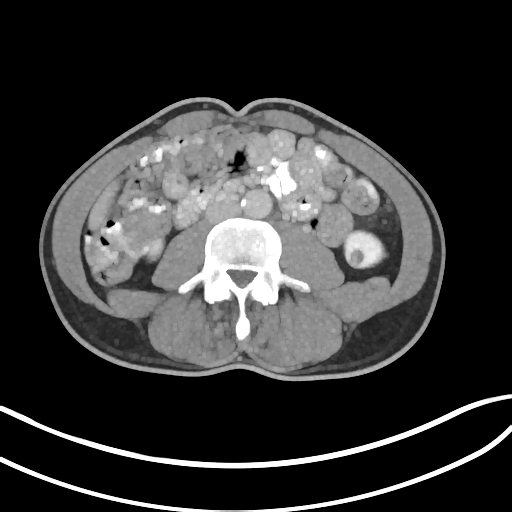Lesion: (348, 245, 365, 267)
